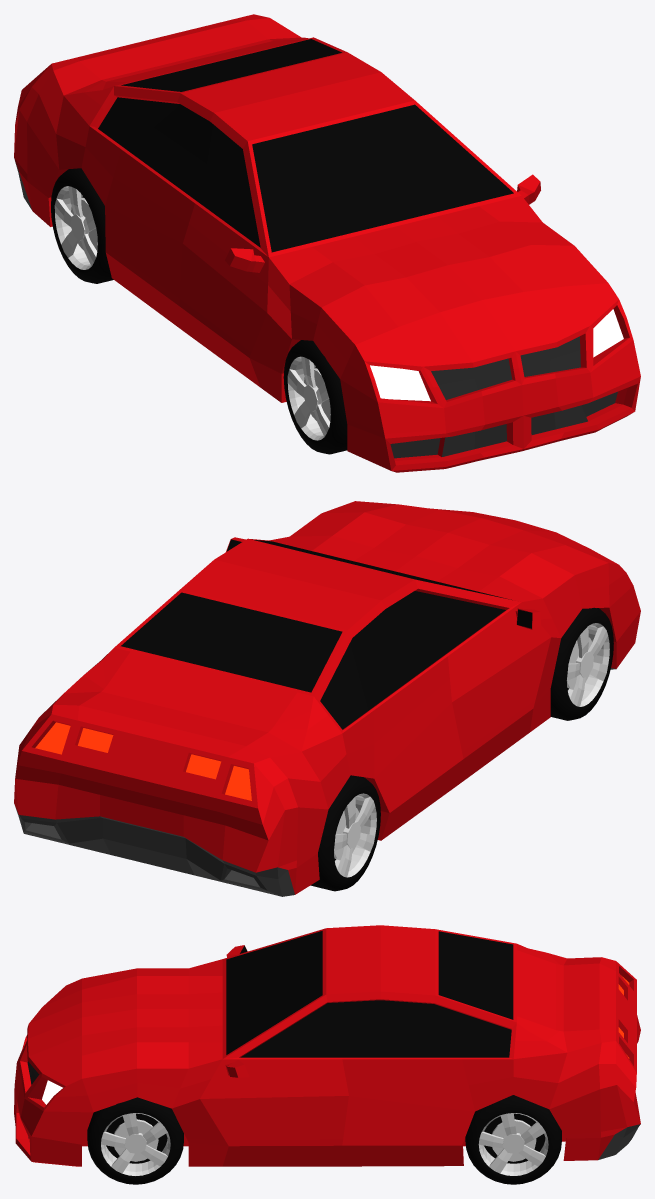
Rendered from myLowpolyCar.glb.
3 renders of one model, top to bottom at view 1: azimuth 30°, elevation 25°; view 2: azimuth 150°, elevation 25°; view 3: azimuth 270°, elevation 25°, orthographic. The views are drawn at different scales.
Parts seen in each view (by area): view 1: Body, FR, RR; view 2: Body, RR, FR; view 3: Body, RL, FL.
Part boxes in pixels (<box>): Body: <box>14,14,640,472</box>; FR: <box>283,340,347,454</box>; RR: <box>51,168,113,283</box>; Body: <box>14,501,640,896</box>; RR: <box>310,775,380,891</box>; FR: <box>550,607,613,720</box>; Body: <box>14,925,640,1166</box>; RL: <box>465,1095,561,1184</box>; FL: <box>87,1097,183,1184</box>.
Size of the model in its own units: 2.02 by 1.33 by 4.34.
